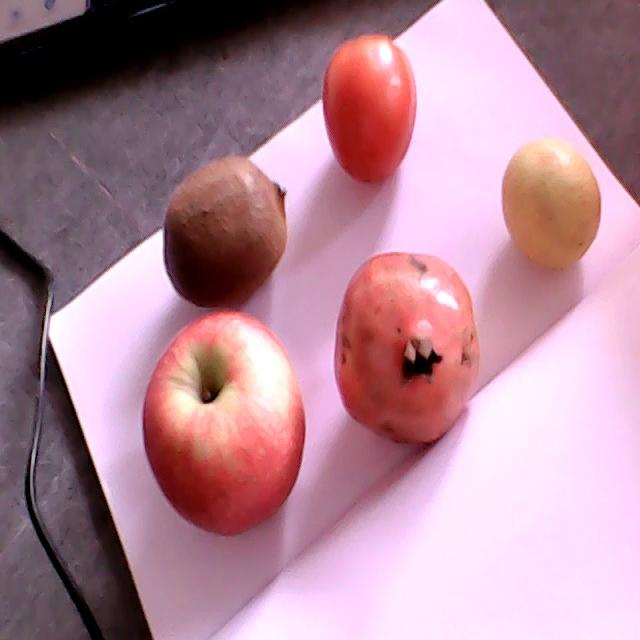apple: (142, 309, 306, 537)
kiwi: (163, 157, 287, 310)
lemon: (501, 141, 601, 271)
pomegranate: (334, 254, 480, 444)
tomato: (322, 33, 416, 188)
